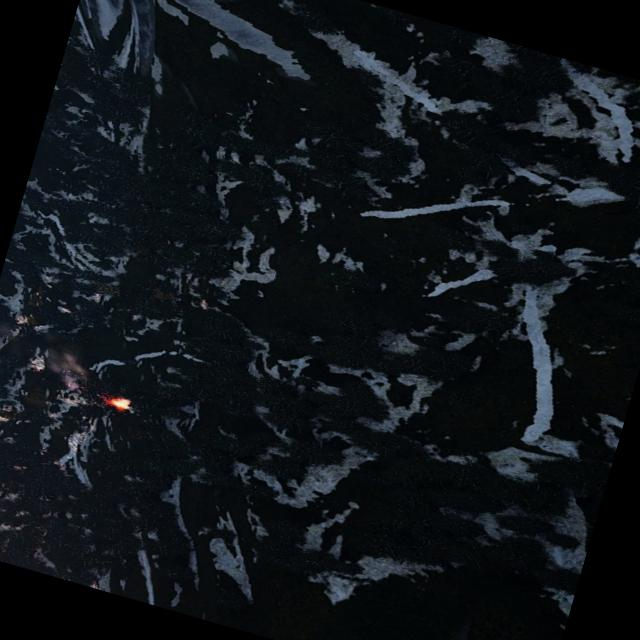fire: (108, 394, 131, 411)
smoke: (32, 333, 96, 388)
